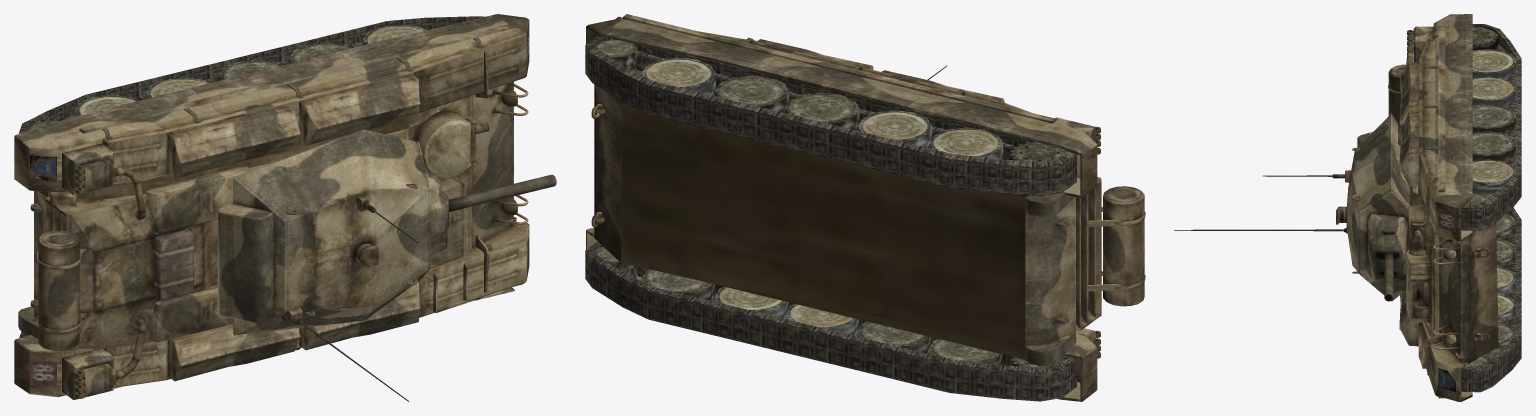
Rendered from vehicle_crusader2_static.glb.
3 views of the same model, side by side, from view 1: azimuth 30°, elevation 25°; view 2: azimuth 150°, elevation 25°; view 3: azimuth 270°, elevation 25° (orthographic). The views are drawn at different scales.
Bounding box in the file's own units: 282 × 136 × 207.
Materials: 6 (6 with a texture image).
